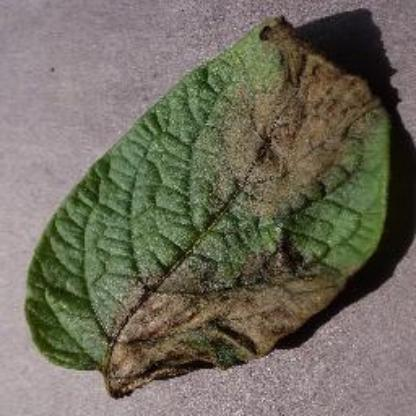Late-Blight: (19, 16, 398, 396)
